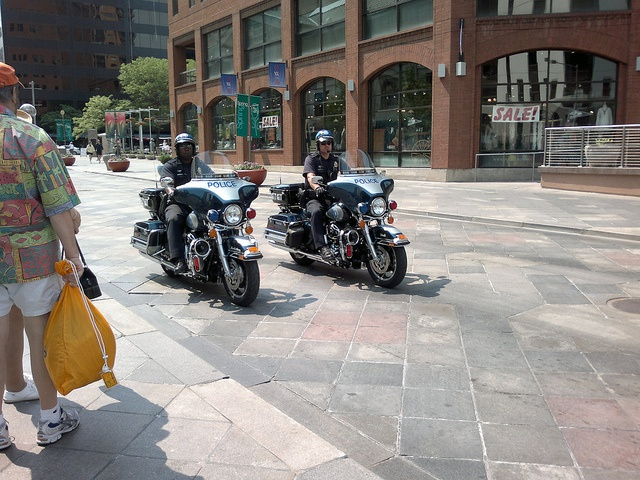non-vehicle: (128, 149, 263, 307), (263, 148, 410, 287)
